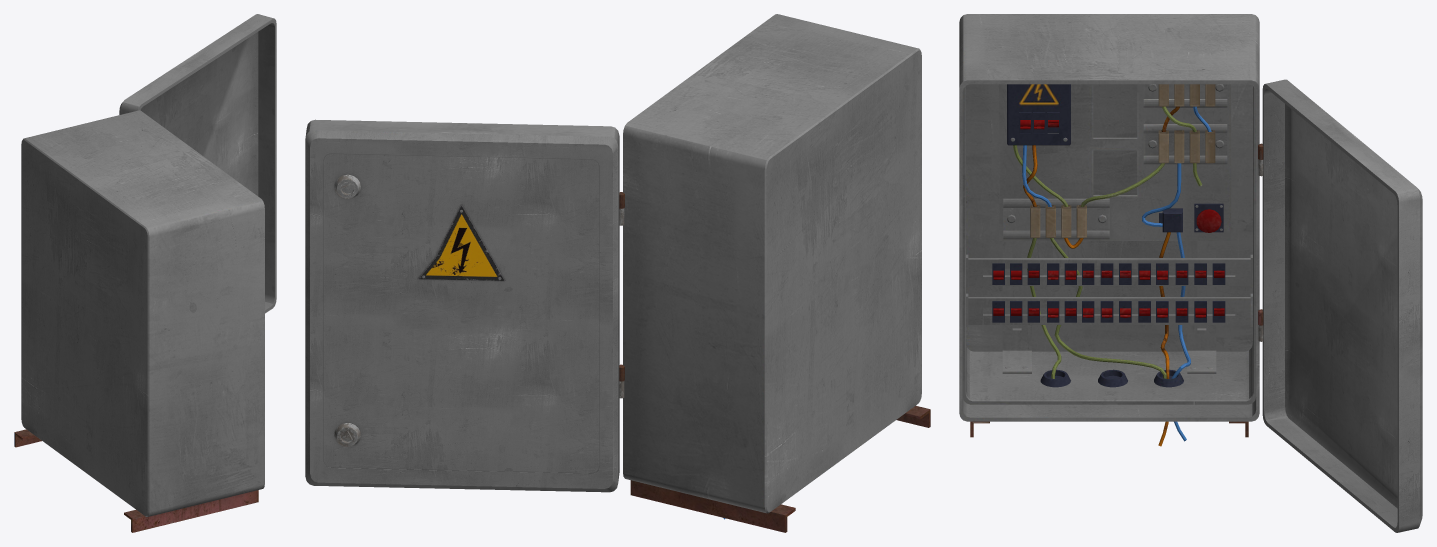
The model's file is SmallFuseBox.glb.
The picture shows the model from 3 angles, left to right: view 1: azimuth 30°, elevation 25°; view 2: azimuth 150°, elevation 25°; view 3: azimuth 270°, elevation 25°; orthographic projection. The views are drawn at different scales.
Parts seen in each view (by area): view 1: Fuse, fuse; view 2: Fuse, fuse; view 3: Fuse, fuse.
Boxes of the visible parts, x1,y1,x2,y2 form: Fuse: (14, 110, 264, 532); fuse: (119, 14, 276, 313); Fuse: (623, 14, 930, 532); fuse: (305, 119, 624, 492); Fuse: (959, 14, 1259, 446); fuse: (1258, 79, 1422, 532).
Size of the model in its own units: 57.68 by 56.9 by 60.26.
2 materials, 2 textured.
